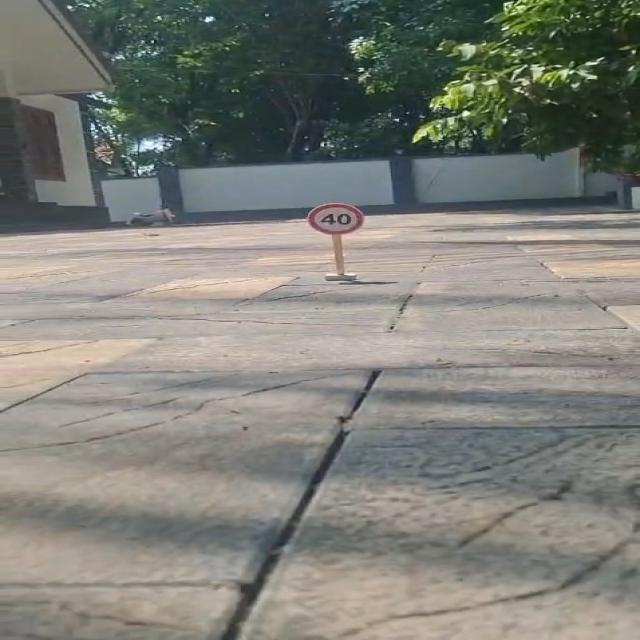Speed40: (306, 202, 366, 236)
